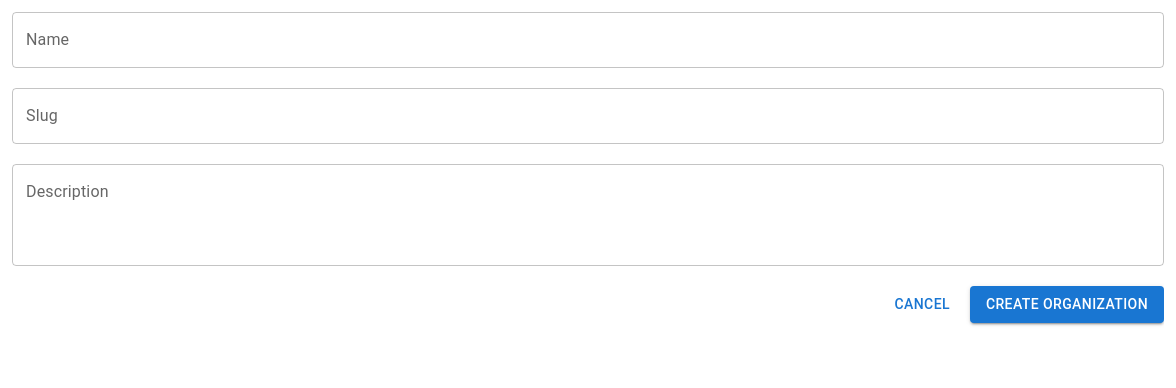
it: OrganizationForm › shows validation errors for required fields
The width and height of the screenshot is (1176, 388).
Click the button "Create Organization" at (1067, 304), box 970,286 -> 1164,322
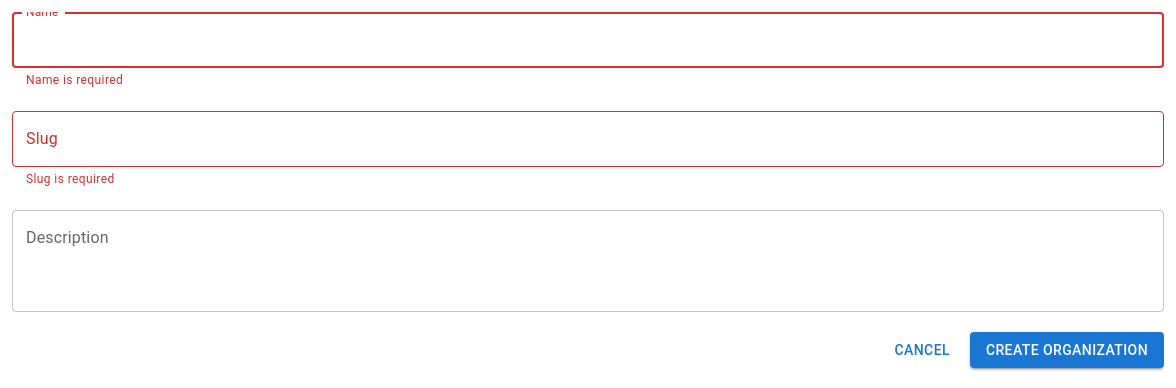
Expected: the text "Name is required" is shown, 26,73 -> 123,87
Expected: the text "Slug is required" is shown, 26,172 -> 115,186
